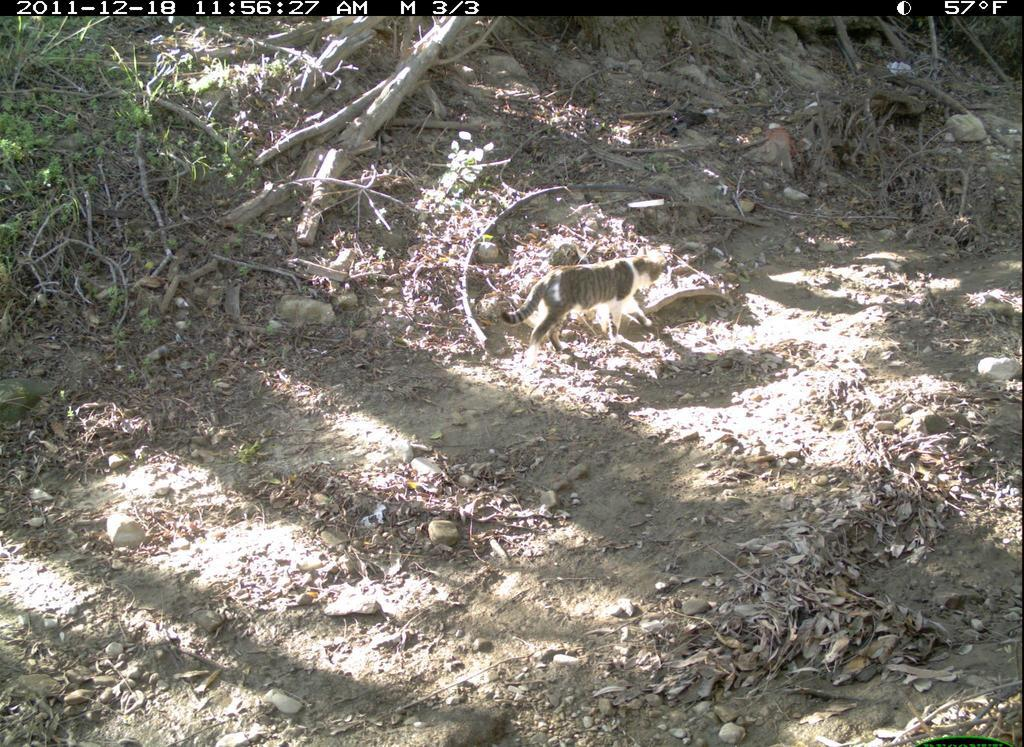cat: (500, 246, 670, 370)
